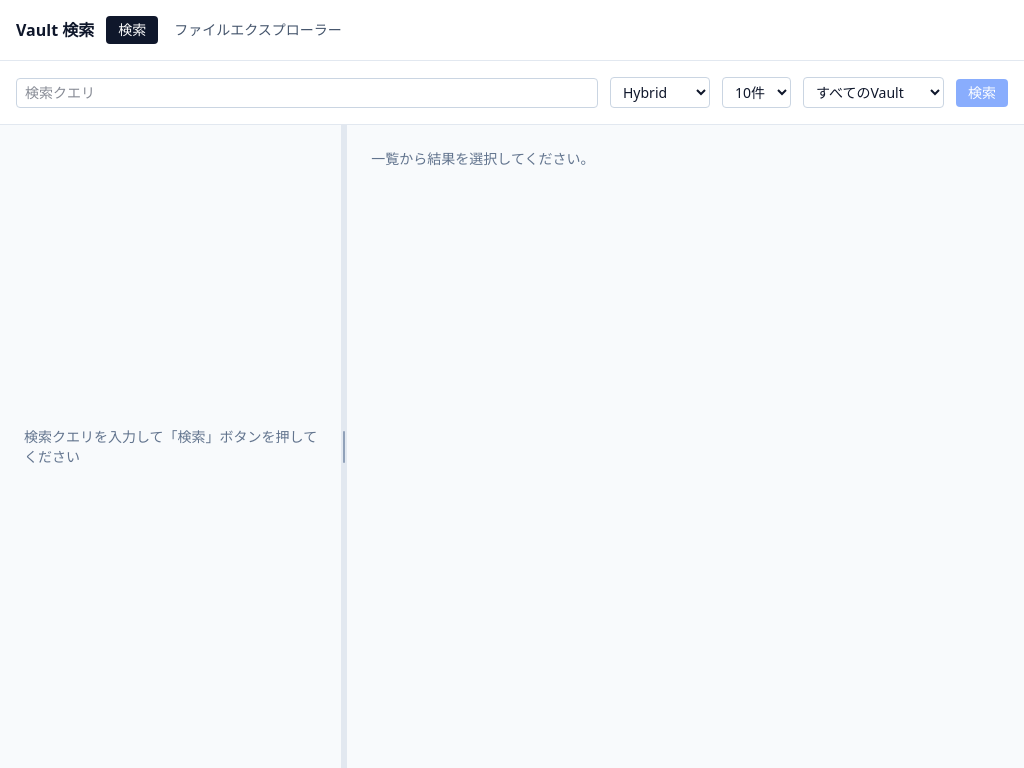
does not show 'no results' toast during loading
In the search field with placeholder "検索クエリ": (307, 92) [16,78,598,108], type "test query"
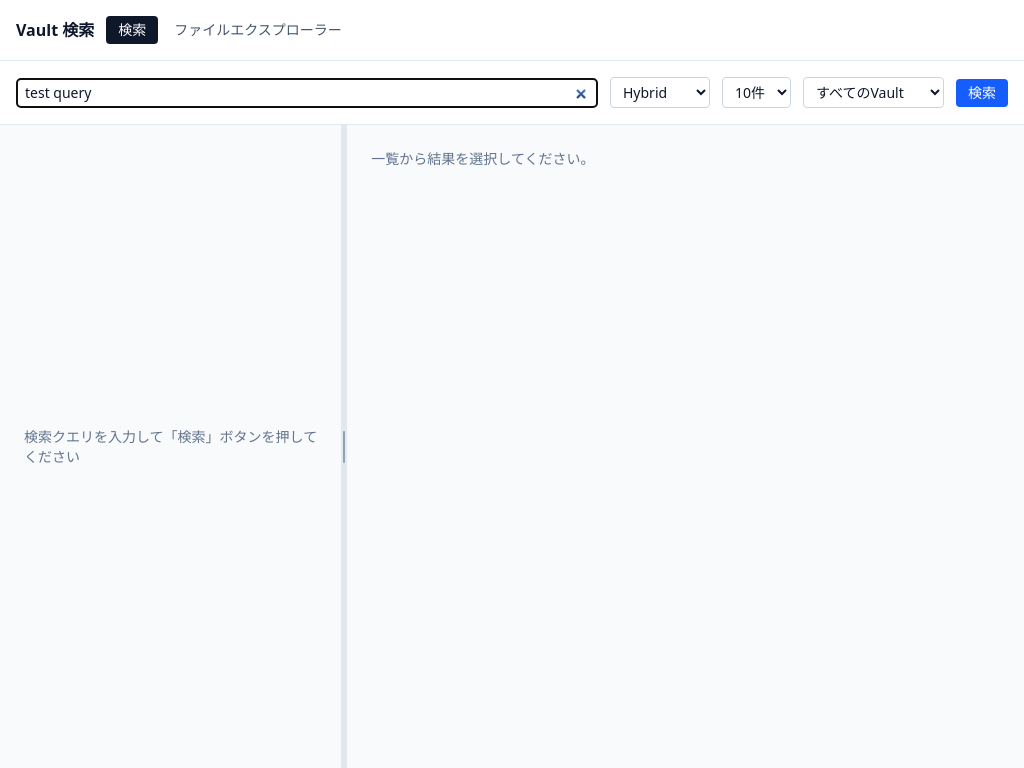
Click the button "検索": click(982, 92) [956,78,1008,106]
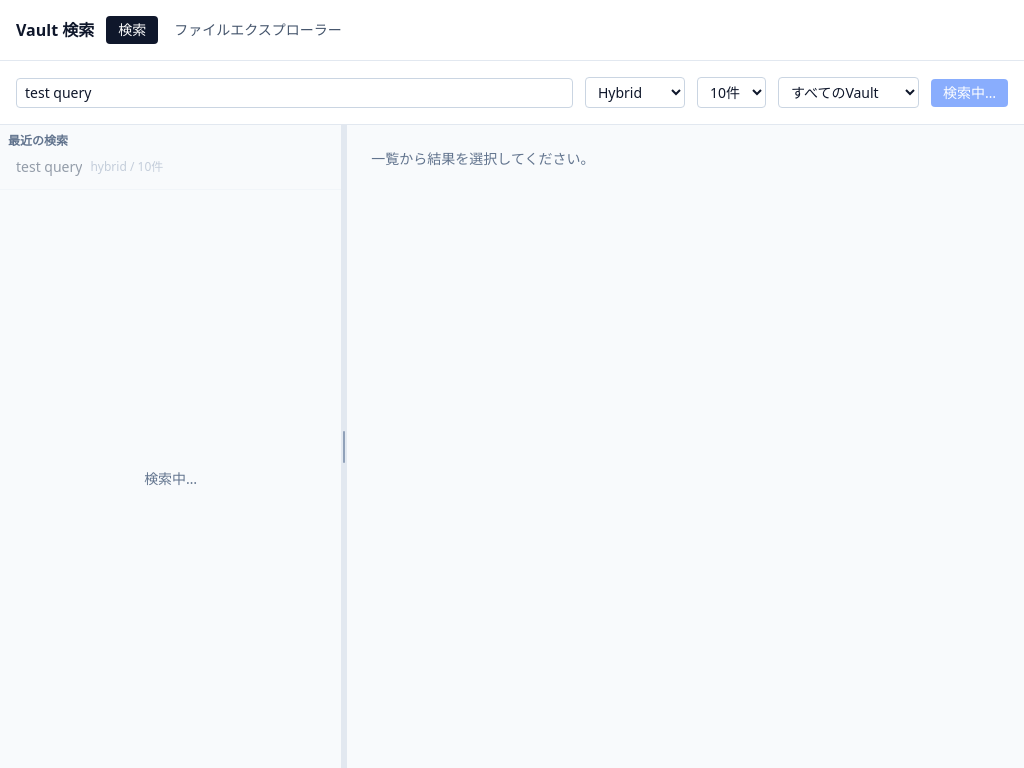
Check: the button "検索中…" is disabled, box [931,78,1008,106]
